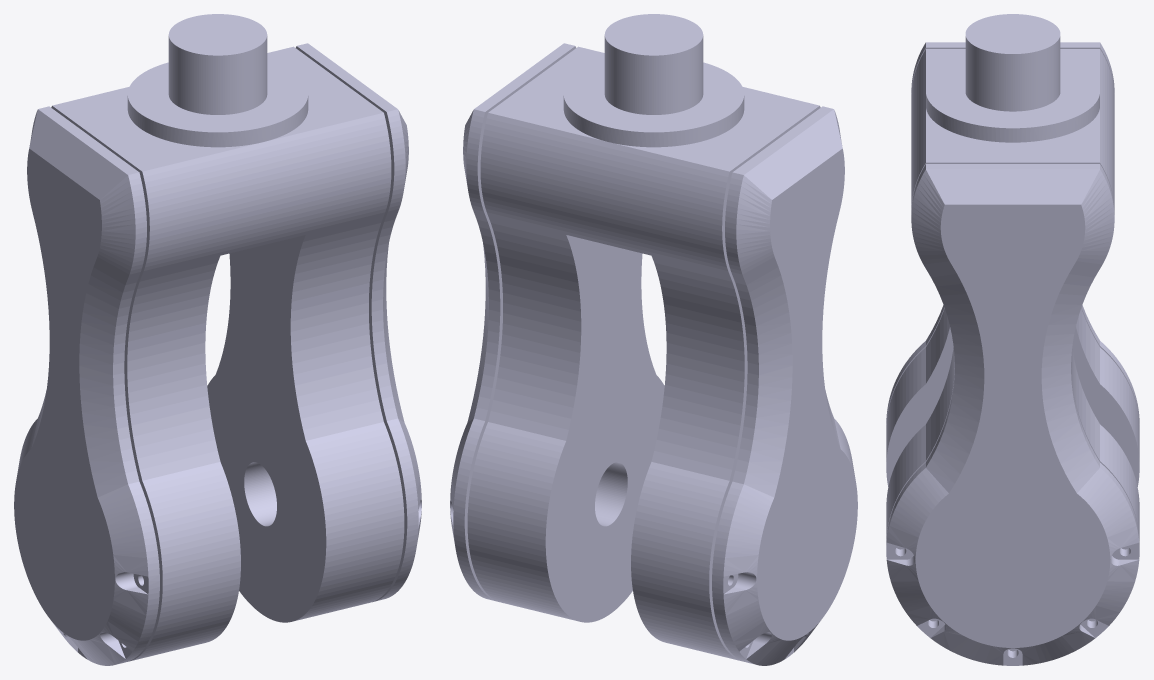
3 views of the same model, side by side, from view 1: azimuth 30°, elevation 25°; view 2: azimuth 150°, elevation 25°; view 3: azimuth 270°, elevation 25° (orthographic). The views are drawn at different scales.
Parts seen in each view (by area): view 1: node0; view 2: node0; view 3: node0.
Boxes of the visible parts, box(x1,y1,x2,y2) form: node0: box(14, 14, 421, 665); node0: box(450, 14, 857, 665); node0: box(886, 14, 1139, 665).
Size of the model in its own units: 0.108 by 0.08 by 0.198.
